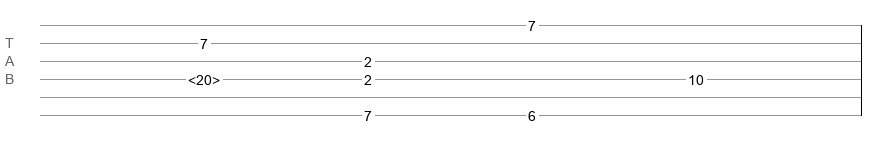10: (688, 72, 704, 82)
2: (364, 72, 372, 82), (364, 54, 372, 64)
6: (528, 108, 536, 118)
7: (200, 36, 208, 46), (364, 108, 372, 118), (528, 18, 536, 28)
harmonic: (188, 72, 220, 82)
